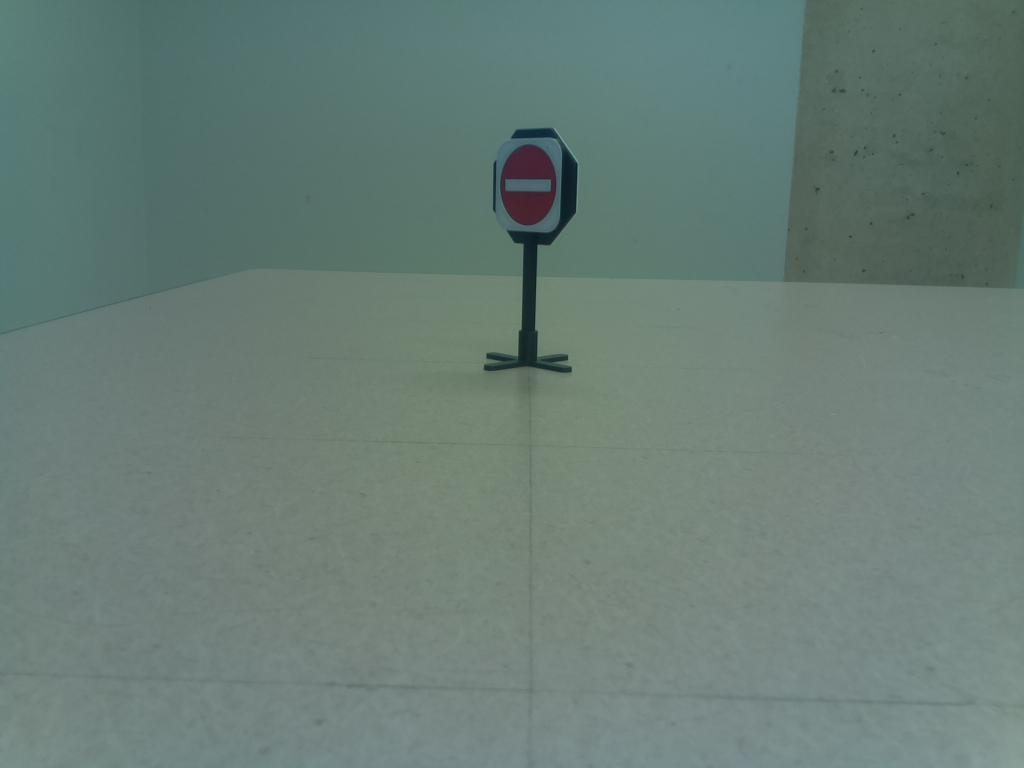sign_noentry: (486, 119, 588, 250)
